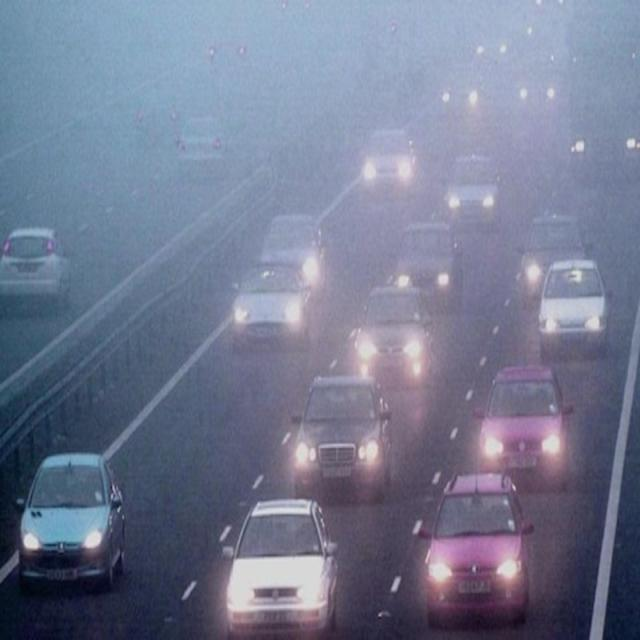bus: (566, 17, 638, 179)
car: (407, 475, 535, 630), (223, 497, 341, 635), (19, 450, 123, 596), (286, 374, 390, 505), (472, 366, 571, 490), (352, 284, 432, 380), (537, 259, 609, 360), (229, 262, 311, 348), (256, 212, 327, 287), (524, 214, 584, 297), (1, 228, 66, 300), (398, 218, 456, 298), (445, 151, 501, 227), (363, 126, 413, 196), (177, 114, 230, 174), (136, 83, 184, 137), (439, 61, 481, 112), (520, 60, 558, 113), (476, 18, 509, 61)
